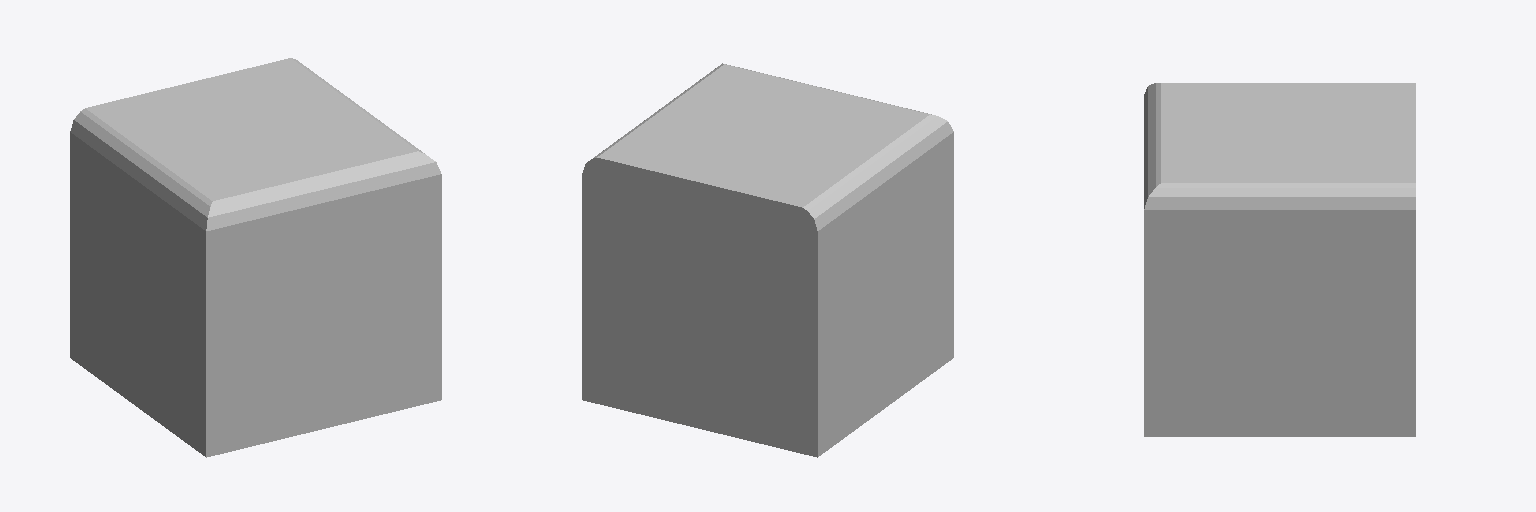
The model's file is box1round.obj.
3 renders of one model, left to right at view 1: azimuth 30°, elevation 25°; view 2: azimuth 150°, elevation 25°; view 3: azimuth 270°, elevation 25°, orthographic.
Visible parts, largest first — view 1: box1:pCube1; view 2: box1:pCube1; view 3: box1:pCube1.
Boxes of the visible parts, x1=… form: box1:pCube1: x1=70, y1=58, x2=441, y2=457; box1:pCube1: x1=582, y1=63, x2=953, y2=457; box1:pCube1: x1=1144, y1=83, x2=1415, y2=436.
Bounding box in the file's own units: 1 × 1 × 1.